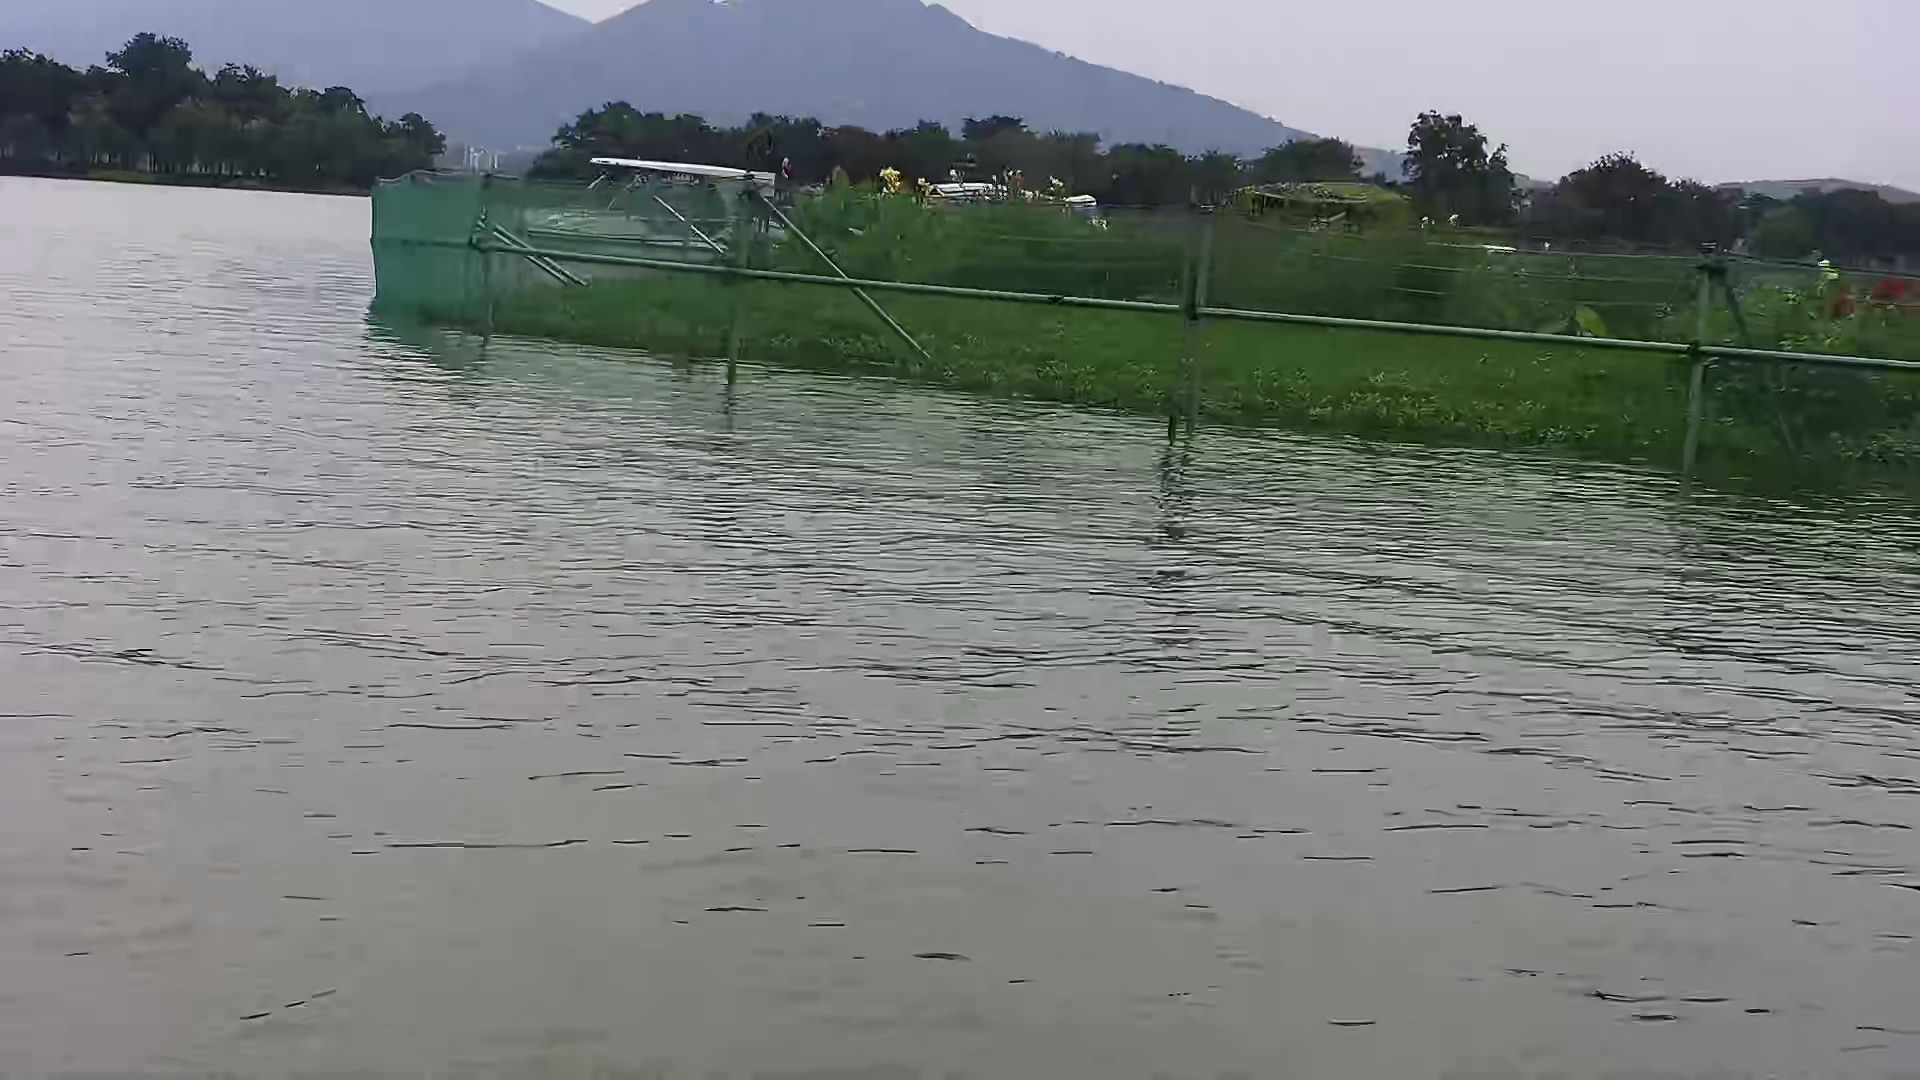grass: (361, 164, 1909, 506)
